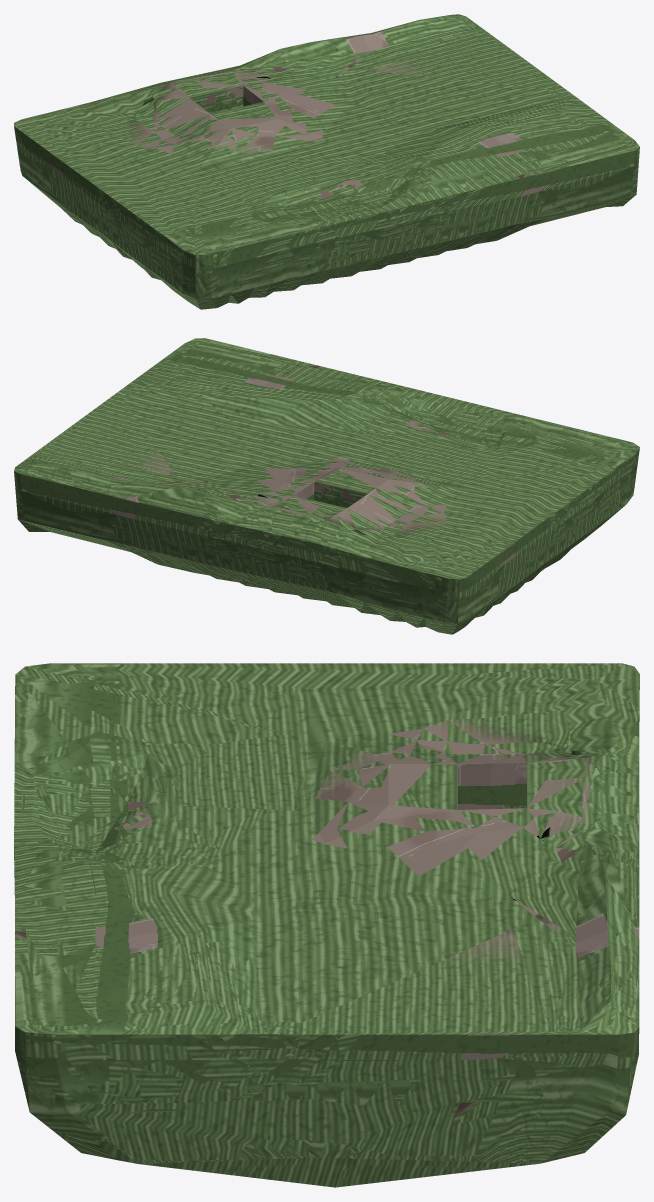
Rendered from grass2.glb.
3 renders of one model, top to bottom at view 1: azimuth 30°, elevation 25°; view 2: azimuth 150°, elevation 25°; view 3: azimuth 270°, elevation 25°, orthographic. The views are drawn at different scales.
Visible parts, largest first — view 1: grass; view 2: grass; view 3: grass.
Boxes of the visible parts, x1,y1,x2,y2 form: grass: (14,14,639,309); grass: (14,338,639,634); grass: (14,663,639,1187).
Bounding box in the file's own units: 108 × 25.37 × 77.28.
Materials: 1 (1 with a texture image).
